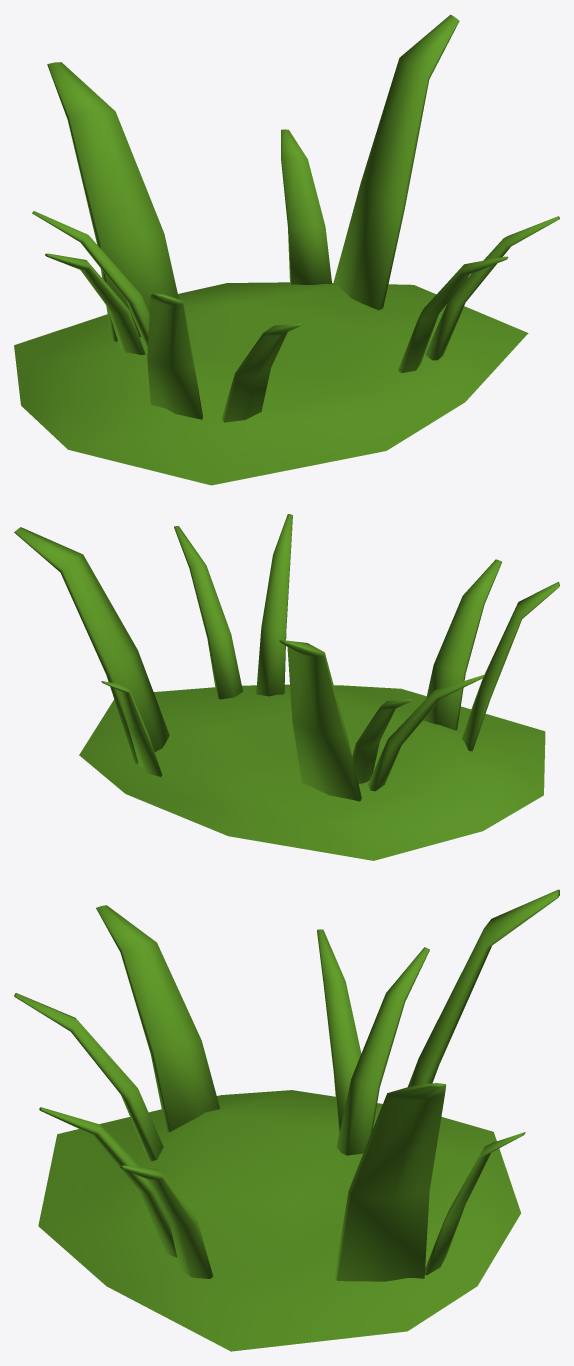
The model's file is Grass_02.fbx.
3 renders of one model, top to bottom at view 1: azimuth 30°, elevation 25°; view 2: azimuth 150°, elevation 25°; view 3: azimuth 270°, elevation 25°, orthographic. The views are drawn at different scales.
Visible parts, largest first — view 1: Cylinder.004; view 2: Cylinder.004; view 3: Cylinder.004.
Boxes of the visible parts, bbox=[...] form: Cylinder.004: bbox=[14, 14, 559, 485]; Cylinder.004: bbox=[14, 514, 559, 860]; Cylinder.004: bbox=[14, 889, 559, 1351].
Bounding box in the file's own units: 384 × 188 × 332.
